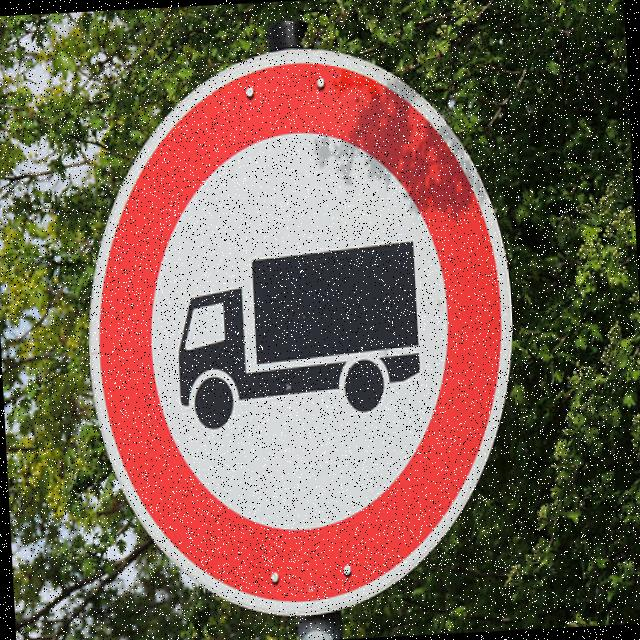do_not_enter: (64, 31, 532, 632)
